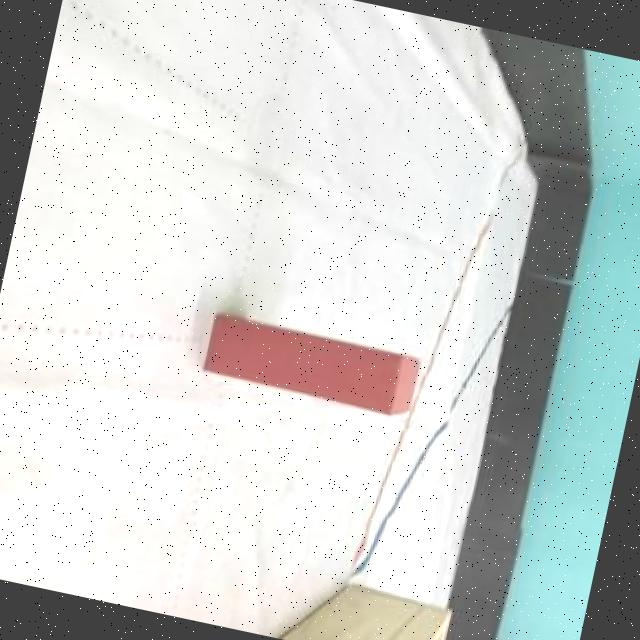redbox: (202, 312, 423, 421)
